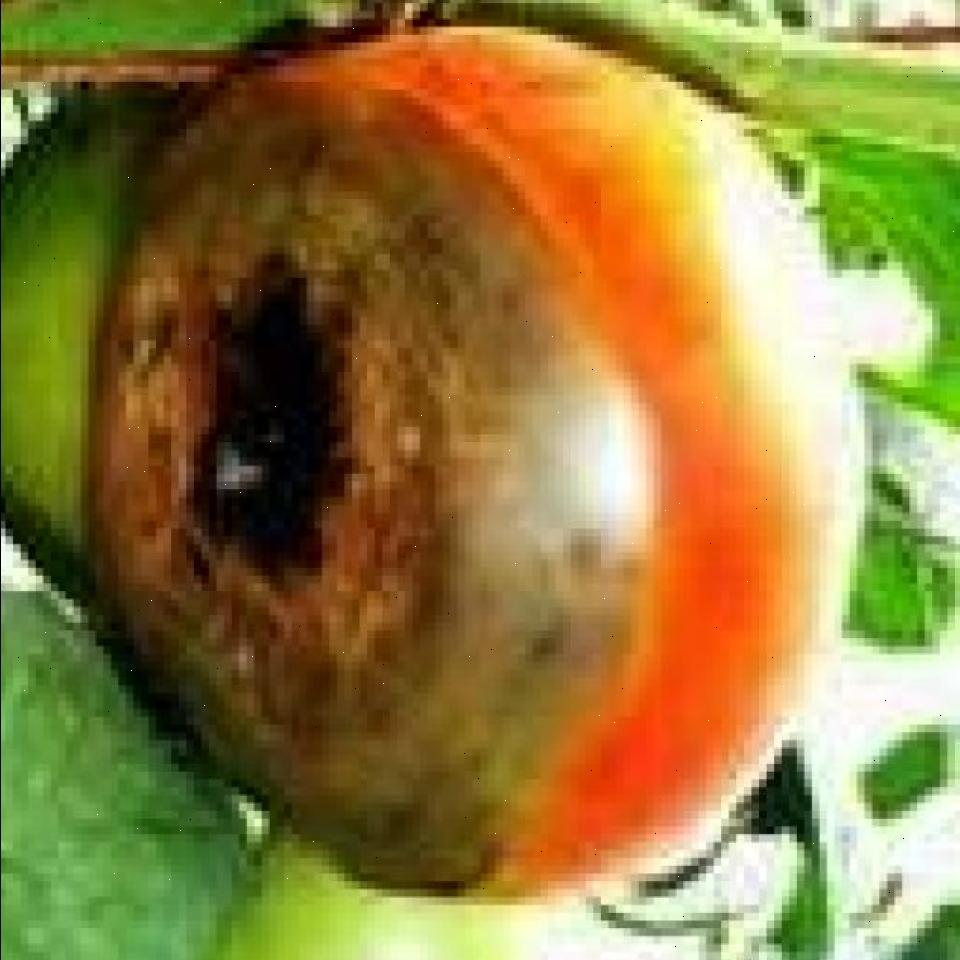Blossom_end_rot: (106, 50, 664, 913)
